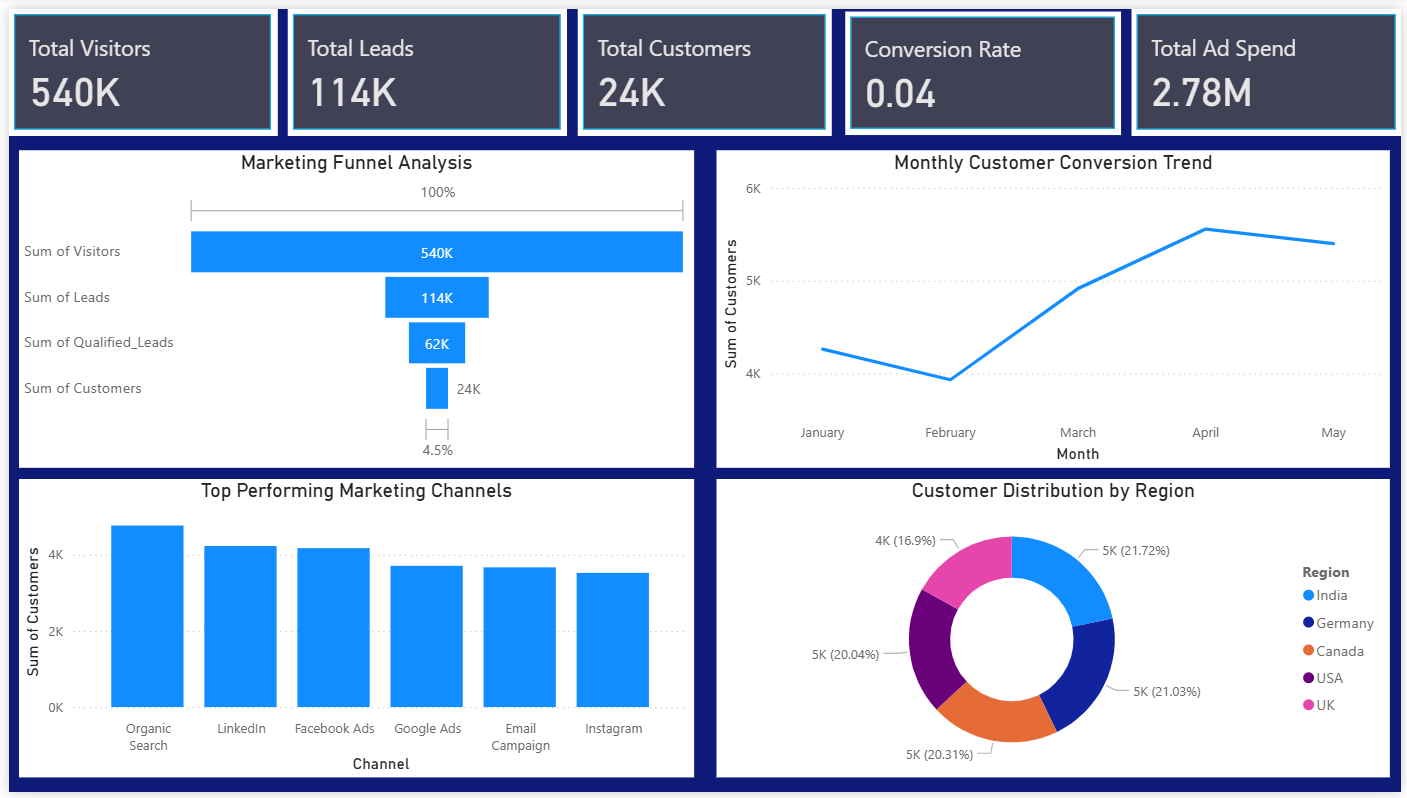

The dashboard page shown, as its layout file describes it:
{"tool":"powerbi","page":{"name":"Page 1","canvas":[1280,720],"ordinal":0},"visuals":[{"type":"cardVisual","fields":{"Data":["marketing_funnel_sample_dataset.Total Leads"]},"box":[256.6,0,256.6,116.6],"z":0},{"type":"cardVisual","fields":{"Data":["marketing_funnel_sample_dataset.Total Customers"]},"box":[522.8,0,233.3,116.6],"z":1000},{"type":"cardVisual","fields":{"Data":["marketing_funnel_sample_dataset.Conversion Rate"]},"box":[768.4,2.7,253.9,113.9],"z":2000},{"type":"cardVisual","fields":{"Data":["marketing_funnel_sample_dataset.Total Visitors"]},"box":[0,0,247,116.6],"z":3000},{"type":"cardVisual","fields":{"Data":["marketing_funnel_sample_dataset.Total Ad Spend"]},"box":[1031.9,0,248.4,116.6],"z":4000},{"type":"lineChart","title":"Monthly Customer Conversion Trend","fields":{"Y":["Sum(marketing_funnel_sample_dataset.Customers)"],"Category":["marketing_funnel_sample_dataset.Date.Variation.Date Hierarchy.Month"]},"box":[650.6,129.9,619.5,292],"z":6000},{"type":"columnChart","title":"Top Performing Marketing Channels","fields":{"Y":["Sum(marketing_funnel_sample_dataset.Customers)"],"Category":["marketing_funnel_sample_dataset.Channel"]},"box":[9.2,432.2,620.7,274.7],"z":7000},{"type":"donutChart","title":"Customer Distribution by Region","fields":{"Category":["marketing_funnel_sample_dataset.Region"],"Y":["Sum(marketing_funnel_sample_dataset.Customers)"]},"box":[650.6,432.2,619.5,274.7],"z":8000},{"type":"funnel","title":"Marketing Funnel Analysis","fields":{"Y":["Sum(marketing_funnel_sample_dataset.Visitors)","Sum(marketing_funnel_sample_dataset.Leads)","Sum(marketing_funnel_sample_dataset.Qualified_Leads)","Sum(marketing_funnel_sample_dataset.Customers)"]},"box":[9.2,129.9,620.7,292],"z":8001}]}

Visuals, with their boxes in screenshot pixels (x1, y1, x2, y2), scaled from the page's 1280x720 canvas onto the 1407x798 screenshot:
cardVisual - marketing_funnel_sample_dataset.Total Leads: rect(282, 0, 564, 129)
cardVisual - marketing_funnel_sample_dataset.Total Customers: rect(575, 0, 831, 129)
cardVisual - marketing_funnel_sample_dataset.Conversion Rate: rect(845, 3, 1124, 129)
cardVisual - marketing_funnel_sample_dataset.Total Visitors: rect(0, 0, 272, 129)
cardVisual - marketing_funnel_sample_dataset.Total Ad Spend: rect(1134, 0, 1406, 129)
"Monthly Customer Conversion Trend" lineChart: rect(715, 144, 1396, 468)
"Top Performing Marketing Channels" columnChart: rect(10, 479, 692, 783)
"Customer Distribution by Region" donutChart: rect(715, 479, 1396, 783)
"Marketing Funnel Analysis" funnel: rect(10, 144, 692, 468)
